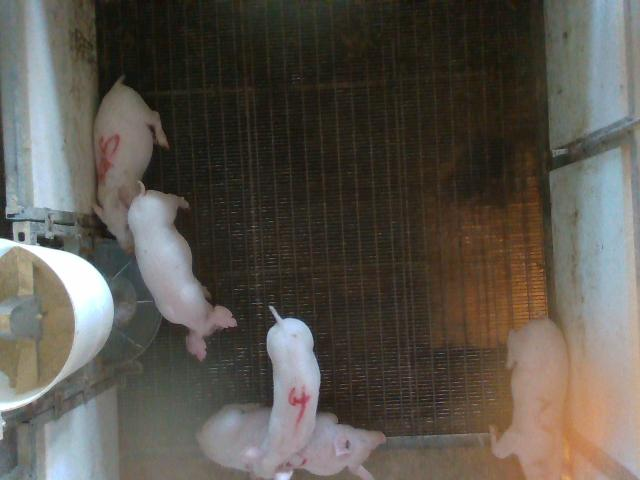pig-2: (490, 318, 568, 479)
pig-3: (281, 412, 385, 479), (196, 404, 271, 471)
pig-4: (250, 306, 320, 478)
pig-5: (94, 76, 169, 252)
